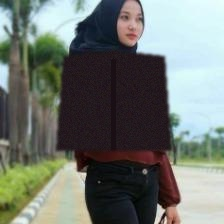Cadar_Niqab: (56, 0, 171, 150)
